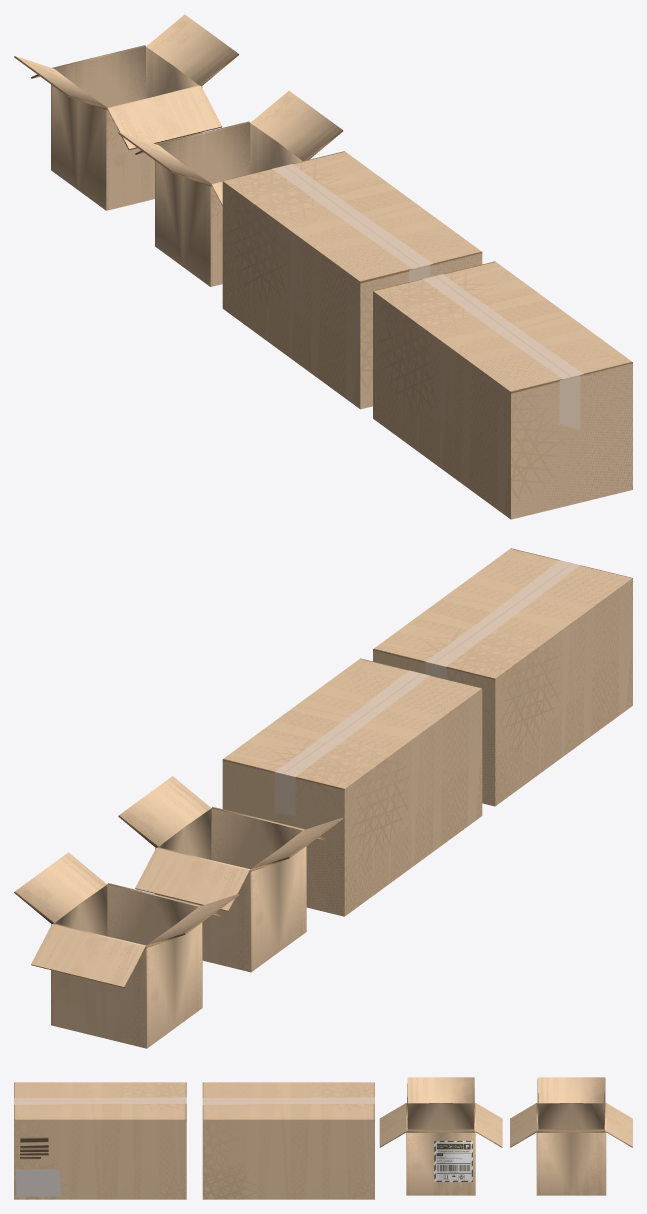
File: cardboard boxes UPDATED.fbx
The picture shows the model from 3 angles, top to bottom: view 1: azimuth 30°, elevation 25°; view 2: azimuth 150°, elevation 25°; view 3: azimuth 270°, elevation 25°; orthographic projection. The views are drawn at different scales.
Visible parts, largest first — view 1: SM_box_1Label, SM_box_1.Plain, SM_box_2Plain, SM_box_2Label; view 2: SM_box_1.Plain, SM_box_1Label, SM_box_2Plain, SM_box_2Label; view 3: SM_box_1.Plain, SM_box_1Label, SM_box_2Plain, SM_box_2Label.
Part boxes in pixels (x1,y1,x2,y2): SM_box_1Label: (373, 261, 632, 519); SM_box_1.Plain: (222, 151, 482, 409); SM_box_2Plain: (14, 14, 239, 210); SM_box_2Label: (118, 91, 343, 286); SM_box_1.Plain: (222, 658, 482, 916); SM_box_1Label: (373, 548, 632, 806); SM_box_2Plain: (14, 852, 238, 1048); SM_box_2Label: (118, 776, 343, 972); SM_box_1.Plain: (202, 1082, 374, 1199); SM_box_1Label: (14, 1082, 186, 1199); SM_box_2Plain: (510, 1077, 632, 1195); SM_box_2Label: (379, 1077, 502, 1195).
Size of the model in its own units: 42.7 by 30.37 by 213.
4 materials, 4 textured.
